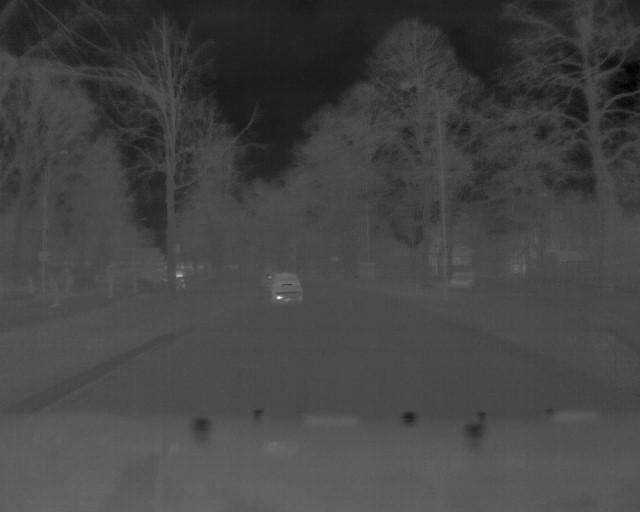car: (268, 270, 304, 308)
